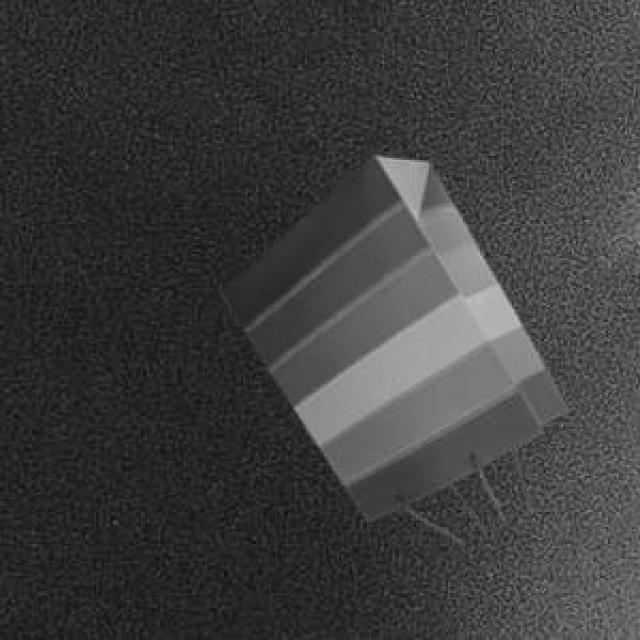paper: (218, 152, 563, 516)
